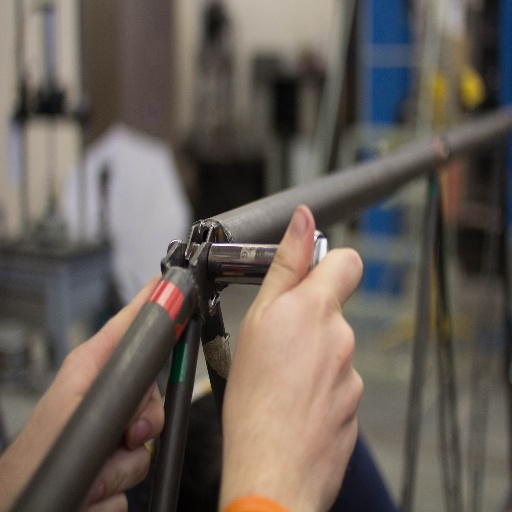hand: (214, 232, 376, 494), (0, 270, 167, 511)
